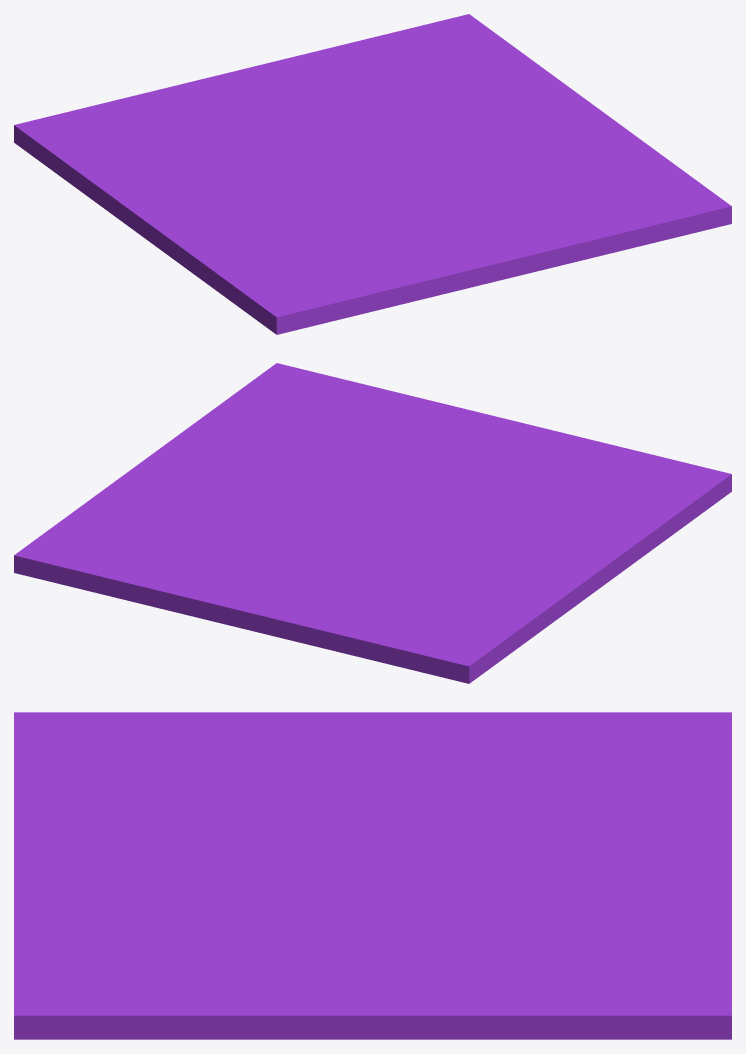
The model's file is Platform_31_chunks.fbx.
3 renders of one model, top to bottom at view 1: azimuth 30°, elevation 25°; view 2: azimuth 150°, elevation 25°; view 3: azimuth 270°, elevation 25°, orthographic. The views are drawn at different scales.
Parts seen in each view (by area): view 1: Platform_31_8, Platform_31_1, Platform_31_10, Platform_31_4, Platform_31_3, Platform_31_0, Platform_31_6, Platform_31_11, Platform_31_13, Platform_31_14, Platform_31_2, Platform_31_7 (+2 smaller); view 2: Platform_31_1, Platform_31_8, Platform_31_10, Platform_31_4, Platform_31_3, Platform_31_6, Platform_31_0, Platform_31_14, Platform_31_13, Platform_31_11, Platform_31_2, Platform_31_7 (+2 smaller); view 3: Platform_31_10, Platform_31_8, Platform_31_1, Platform_31_4, Platform_31_6, Platform_31_11, Platform_31_0, Platform_31_3, Platform_31_13, Platform_31_14, Platform_31_2, Platform_31_7 (+2 smaller).
Part boxes in pixels (x1,y1,x2,y2): Platform_31_8: (375, 163, 575, 300); Platform_31_1: (14, 111, 251, 231); Platform_31_10: (516, 123, 731, 262); Platform_31_4: (237, 190, 416, 316); Platform_31_3: (136, 200, 352, 334); Platform_31_0: (316, 58, 573, 169); Platform_31_6: (380, 14, 529, 106); Platform_31_11: (392, 90, 617, 176); Platform_31_13: (72, 75, 260, 136); Platform_31_14: (219, 35, 382, 99); Platform_31_2: (226, 138, 382, 191); Platform_31_7: (220, 96, 420, 153); Platform_31_1: (389, 546, 598, 683); Platform_31_8: (324, 401, 591, 511); Platform_31_10: (163, 363, 432, 456); Platform_31_4: (421, 440, 683, 546); Platform_31_3: (512, 462, 731, 594); Platform_31_6: (14, 511, 227, 593); Platform_31_0: (75, 479, 379, 541); Platform_31_14: (100, 548, 285, 633); Platform_31_13: (262, 578, 422, 672); Platform_31_11: (119, 446, 357, 509); Platform_31_2: (376, 498, 483, 581); Platform_31_7: (226, 526, 390, 585); Platform_31_10: (14, 911, 340, 1039); Platform_31_8: (14, 805, 367, 927); Platform_31_1: (368, 712, 731, 809); Platform_31_4: (14, 744, 385, 851); Platform_31_6: (456, 915, 731, 1039); Platform_31_11: (245, 875, 459, 1039); Platform_31_0: (361, 844, 565, 1030); Platform_31_3: (14, 712, 376, 772); Platform_31_13: (559, 750, 731, 855); Platform_31_14: (573, 848, 731, 957); Platform_31_2: (293, 786, 549, 862); Platform_31_7: (446, 807, 563, 928).
Size of the model in its own units: 810 by 29.87 by 810.
